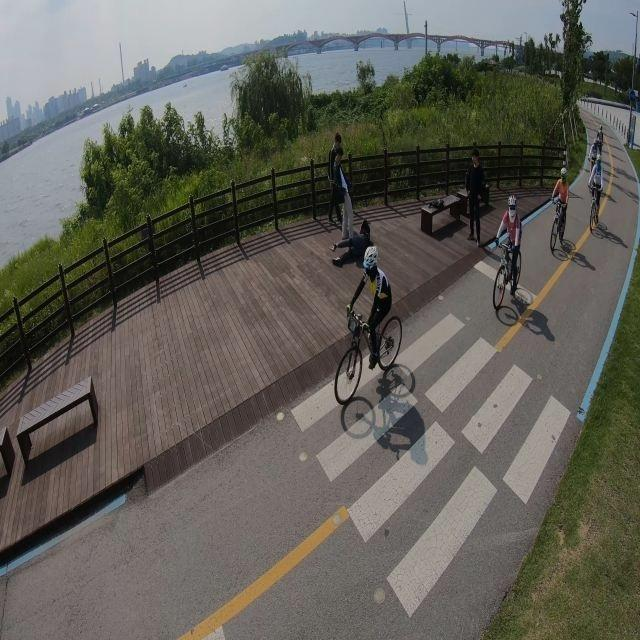fight: (326, 133, 370, 265)
non-fight: (464, 148, 487, 245)
